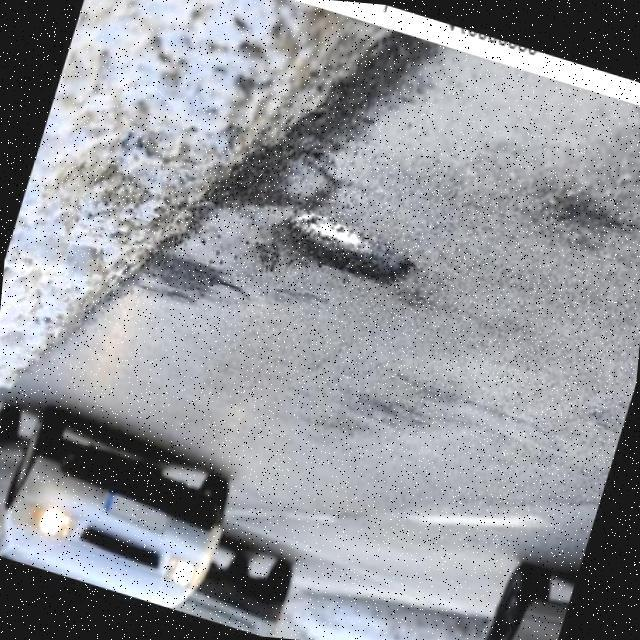Pothole: (272, 210, 404, 283)
